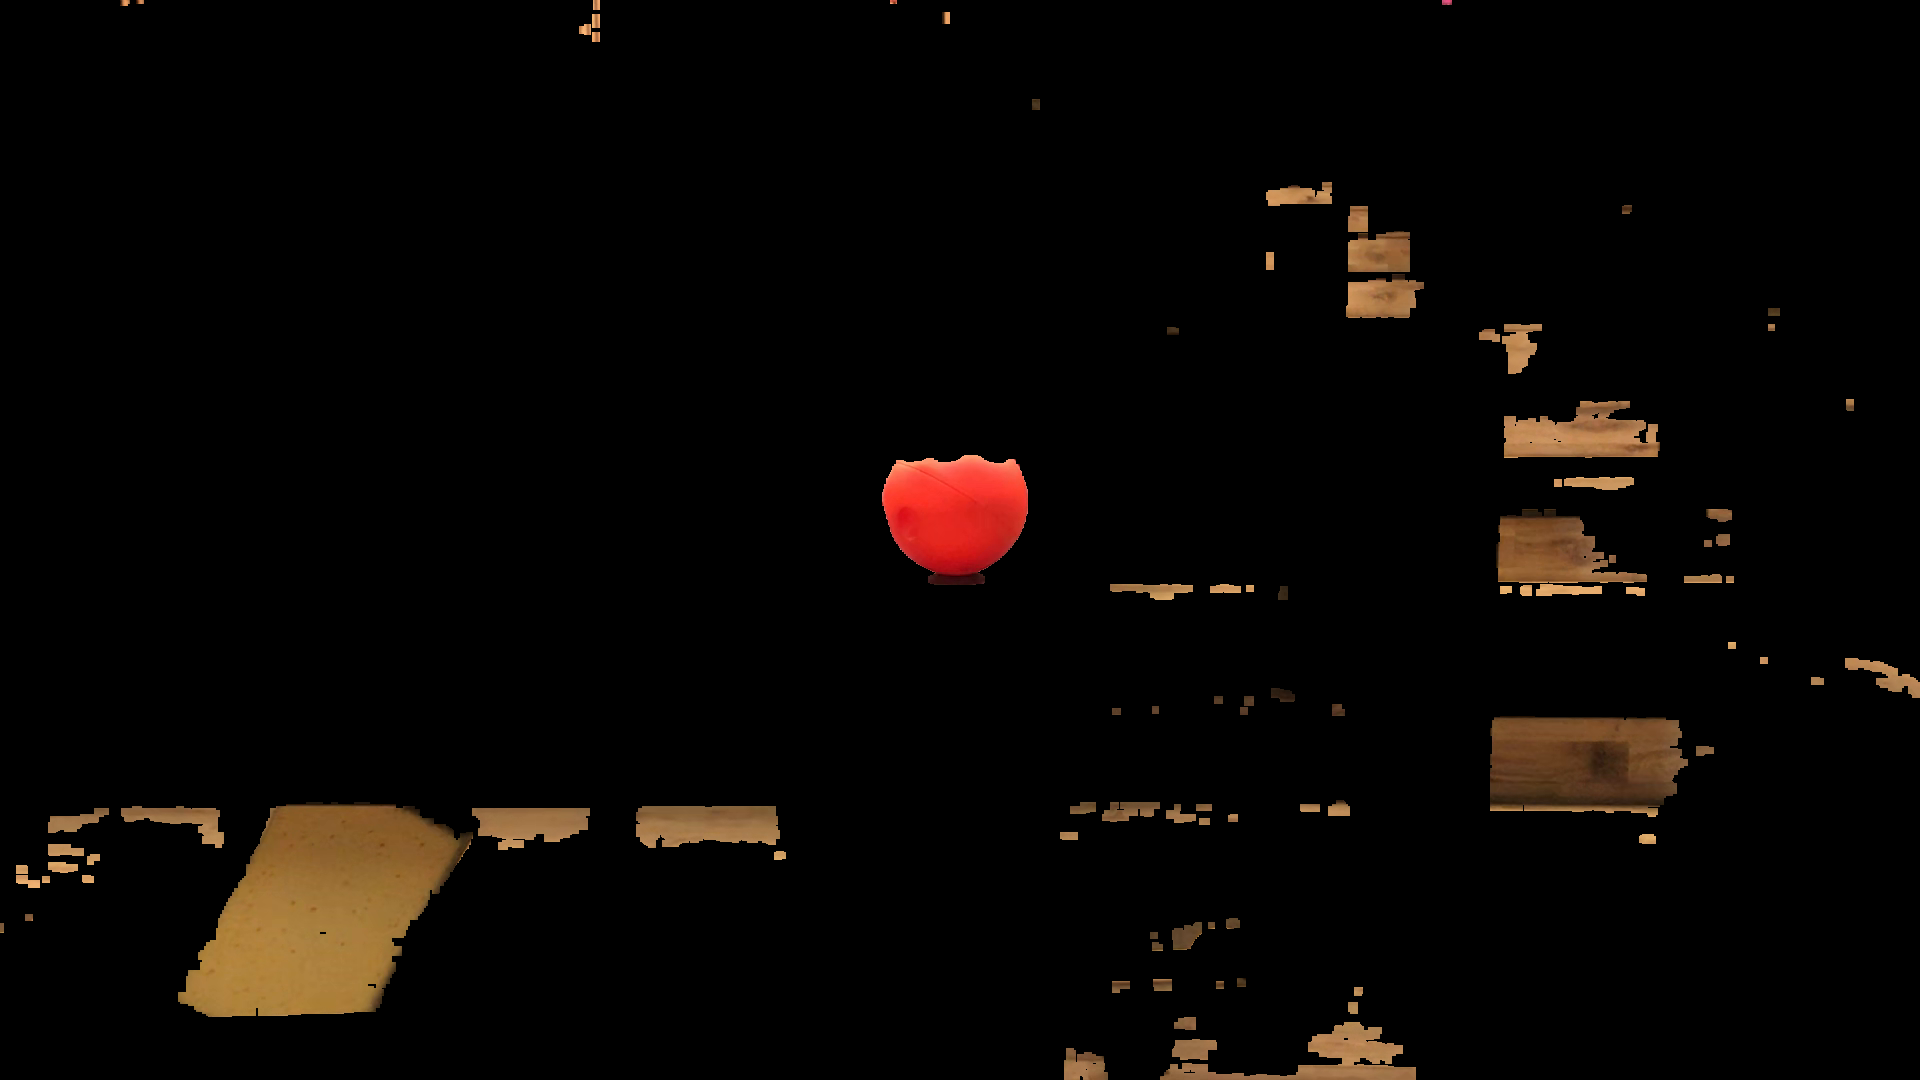Ball: (884, 426, 1027, 574)
